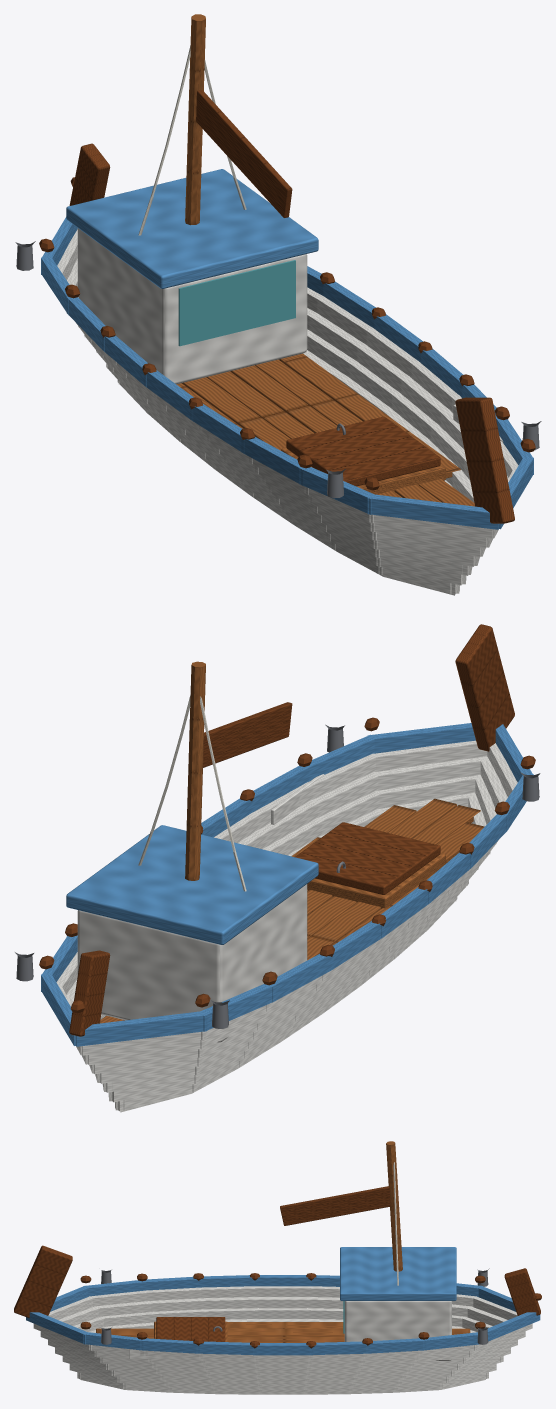
The model's file is boat_fishing_l.glb.
The picture shows the model from 3 angles, top to bottom: view 1: azimuth 30°, elevation 25°; view 2: azimuth 150°, elevation 25°; view 3: azimuth 270°, elevation 25°; orthographic projection. The views are drawn at different scales.
Parts seen in each view (by area): view 1: fishing-boat-large, hatch/oak; view 2: fishing-boat-large, hatch/oak; view 3: fishing-boat-large, hatch/oak.
Part boxes in pixels (left/top/right/bottom): fishing-boat-large: left=15, top=14, right=541, bottom=595; hatch/oak: left=286, top=416, right=440, bottom=486; fishing-boat-large: left=15, top=624, right=540, bottom=1112; hatch/oak: left=295, top=822, right=440, bottom=894; fishing-boat-large: left=14, top=1141, right=541, bottom=1394; hatch/oak: left=156, top=1317, right=225, bottom=1341.
Bounding box in the file's own units: 2.21 × 3.4 × 6.87.
Materials: 7 (5 with a texture image).
